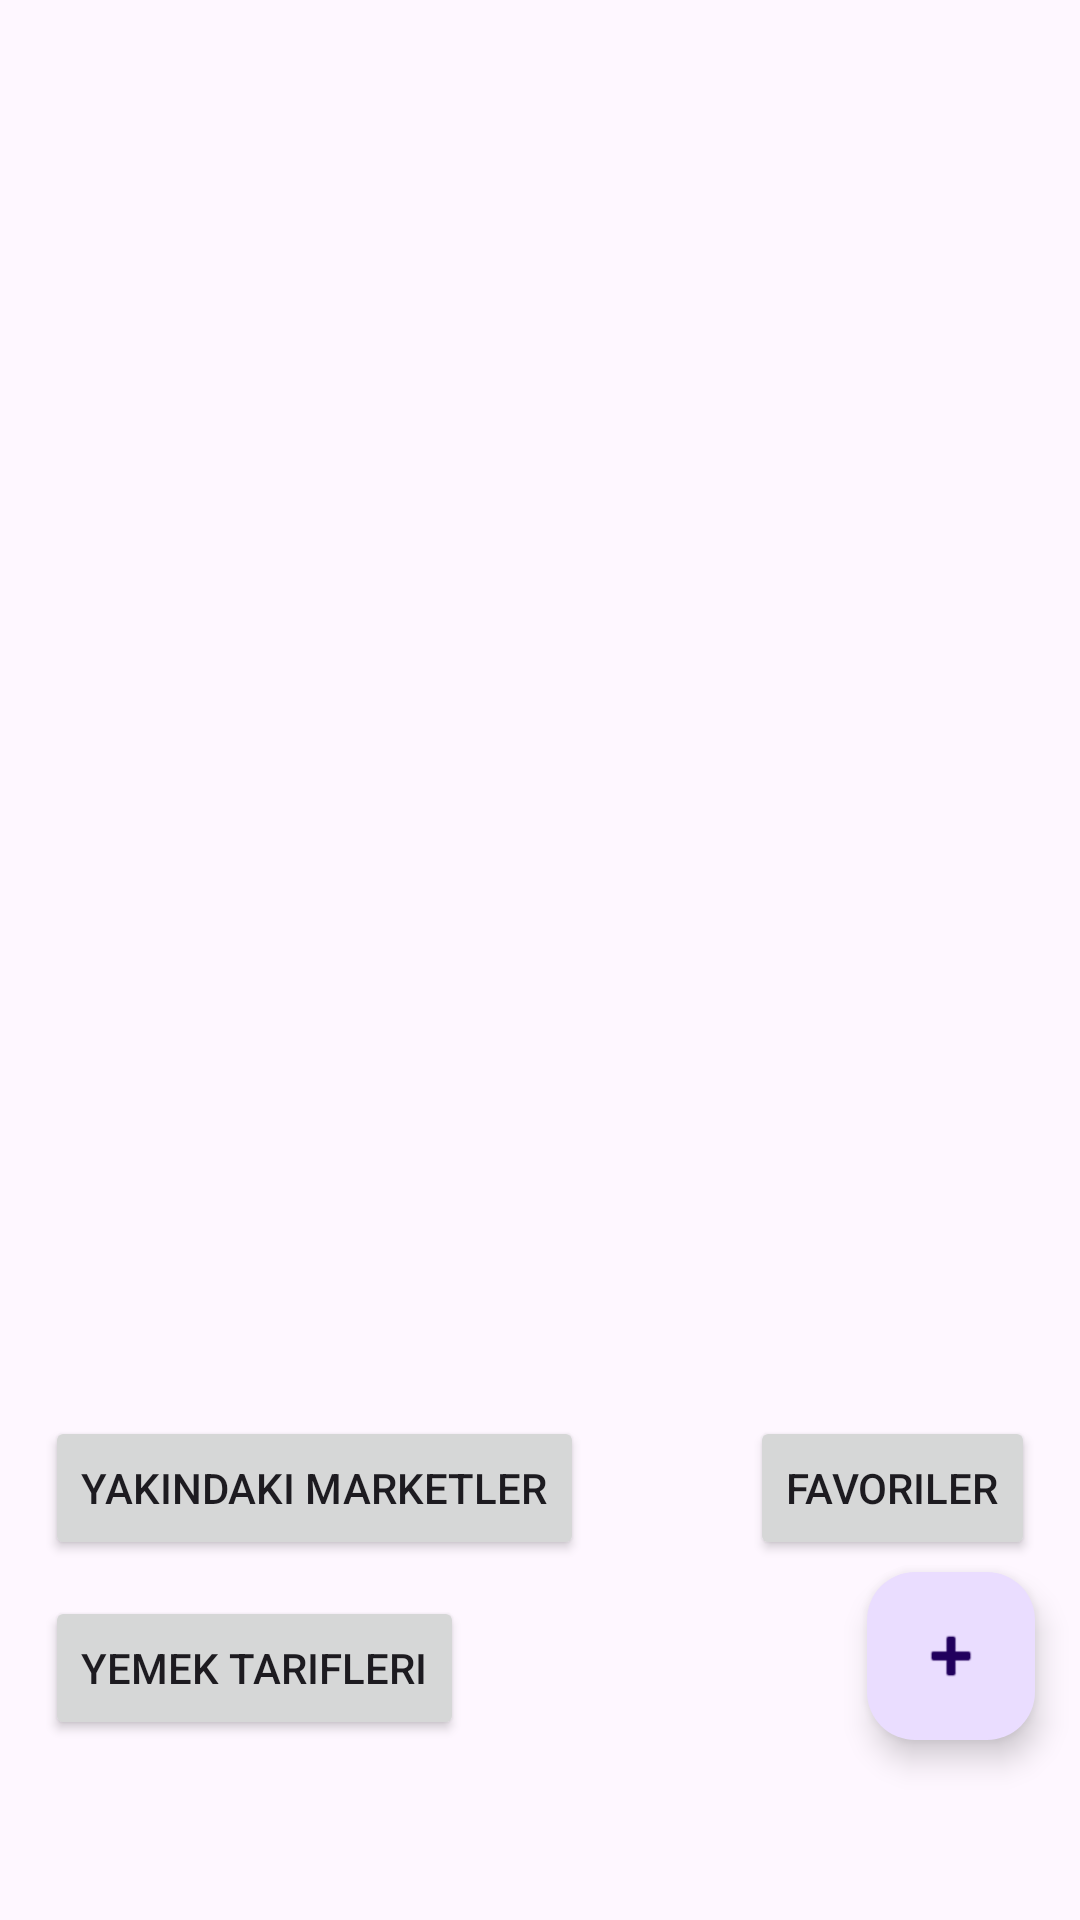

Named icons in this screenshot (1080px x 1920px) and their bounding boxes, (x1, y1, x2, y2):
Yeni öğe ekle: (867, 1572, 1035, 1740)
